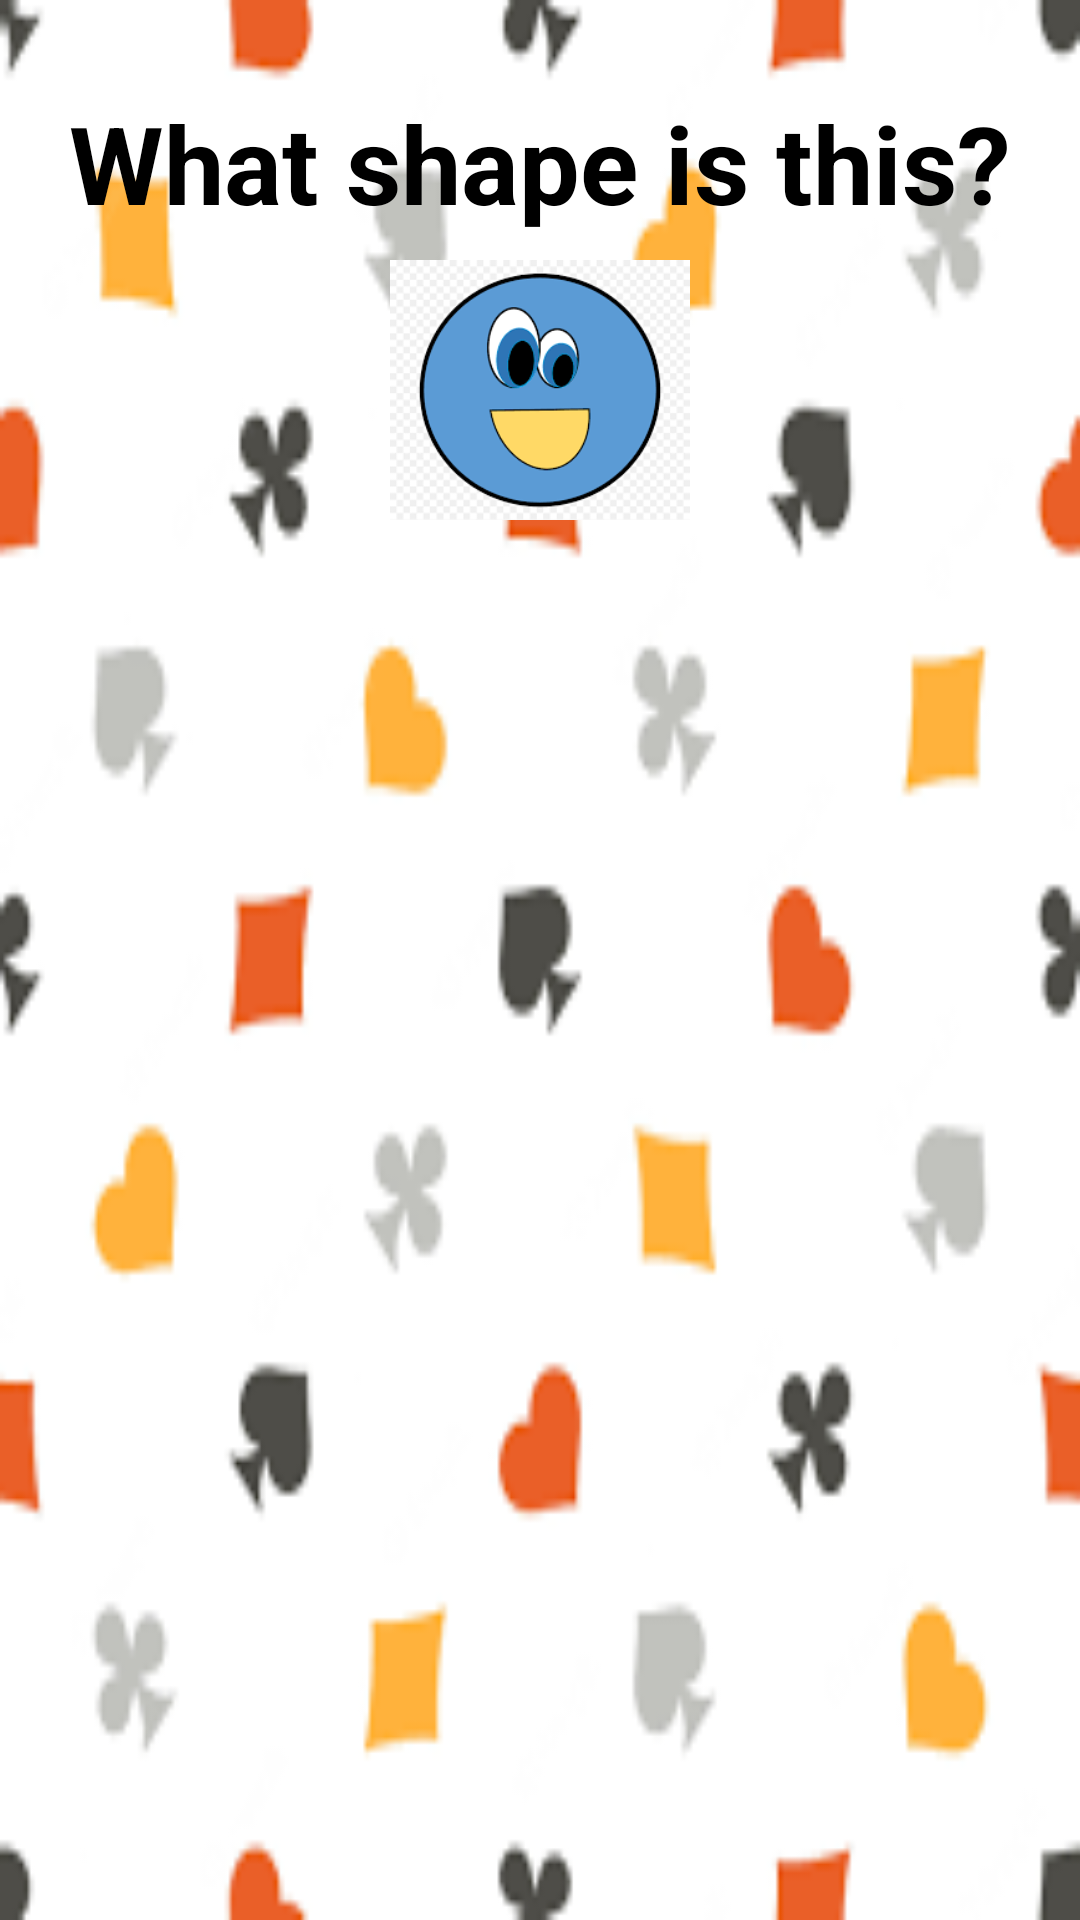

Where to tap for icons on this 1080px×1920px app screen, as point (x, y):
circle: point (540, 390)
